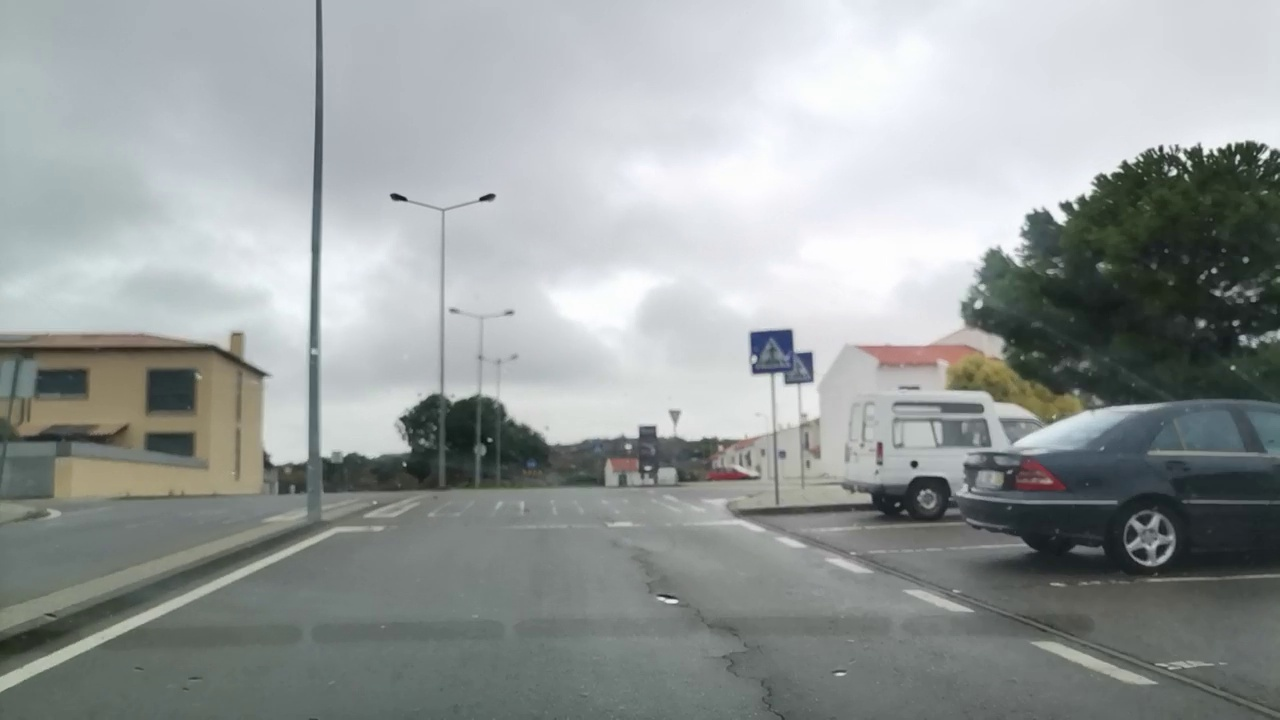Stairs: (361, 486, 707, 524)
